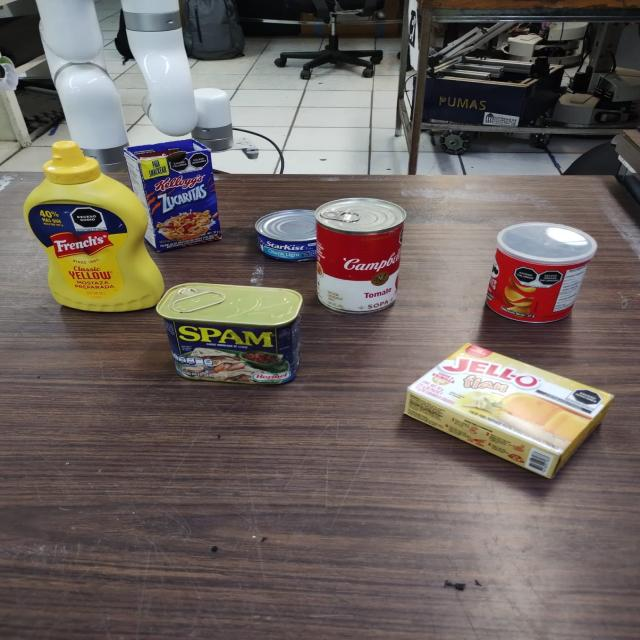can of cream: (314, 198, 408, 311)
can of tuna: (253, 208, 319, 260)
cereal: (121, 140, 222, 247)
chips: (484, 222, 596, 324)
jelly: (405, 342, 619, 481)
mustard: (21, 140, 162, 318)
spam: (156, 280, 305, 392)
